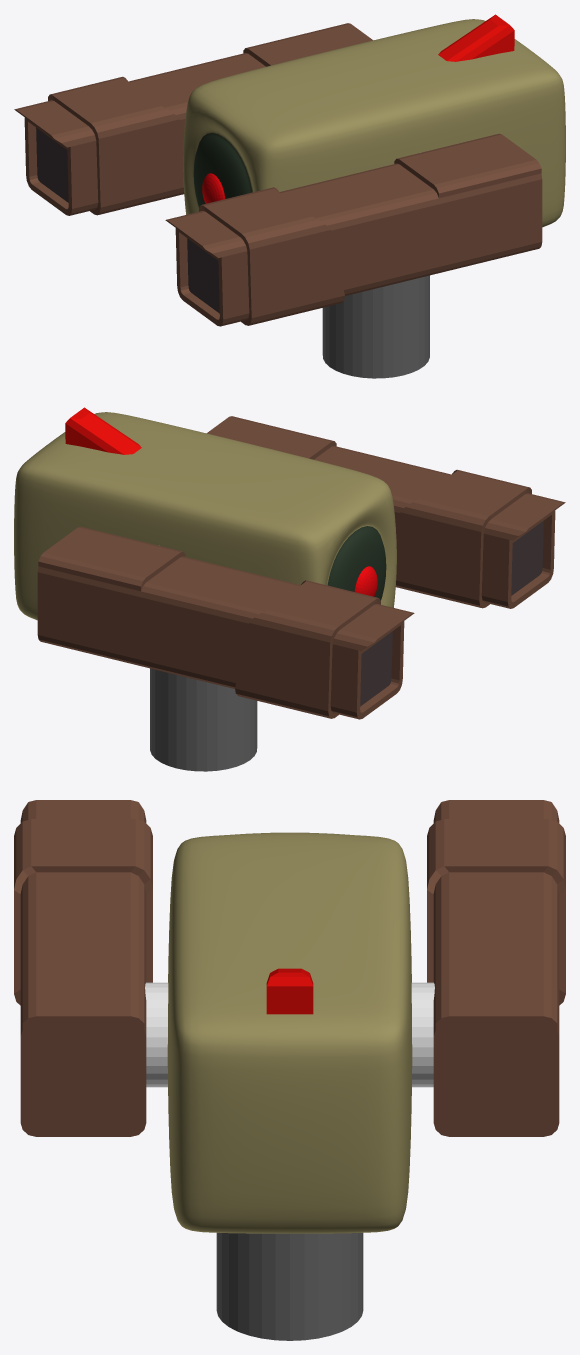
The model's file is scan_turret.fbx.
3 views of the same model, one above another, from view 1: azimuth 30°, elevation 25°; view 2: azimuth 150°, elevation 25°; view 3: azimuth 270°, elevation 25° (orthographic). The views are drawn at different scales.
Visible parts, largest first — view 1: Cube.001, Cube, Cube.002, Cylinder, Cube.003, Sphere; view 2: Cube.001, Cube.002, Cube, Cylinder, Cube.003, Sphere; view 3: Cube.001, Cube, Cube.002, Cylinder, Cylinder.001, Cube.003.
Boxes of the visible parts, x1,y1,x2,y2 form: Cube.001: [183, 19, 565, 227]; Cube: [165, 133, 542, 326]; Cube.002: [14, 23, 372, 215]; Cylinder: [322, 275, 429, 378]; Cube.003: [438, 14, 514, 61]; Sphere: [202, 173, 225, 203]; Cube.001: [14, 412, 396, 620]; Cube.002: [37, 526, 414, 719]; Cube: [207, 416, 565, 608]; Cylinder: [150, 668, 257, 771]; Cube.003: [65, 407, 141, 454]; Sphere: [354, 566, 377, 596]; Cube.001: [167, 832, 412, 1233]; Cube: [14, 800, 152, 1136]; Cube.002: [427, 800, 565, 1136]; Cylinder: [216, 1233, 363, 1340]; Cylinder.001: [145, 982, 434, 1087]; Cube.003: [266, 968, 313, 1014].
Bounding box in the file's own units: 266 × 183 × 219.
